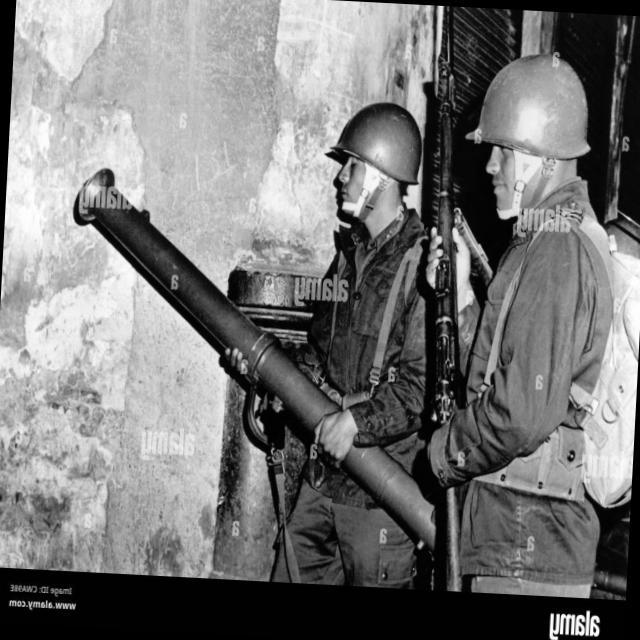rocket: (64, 160, 450, 556)
